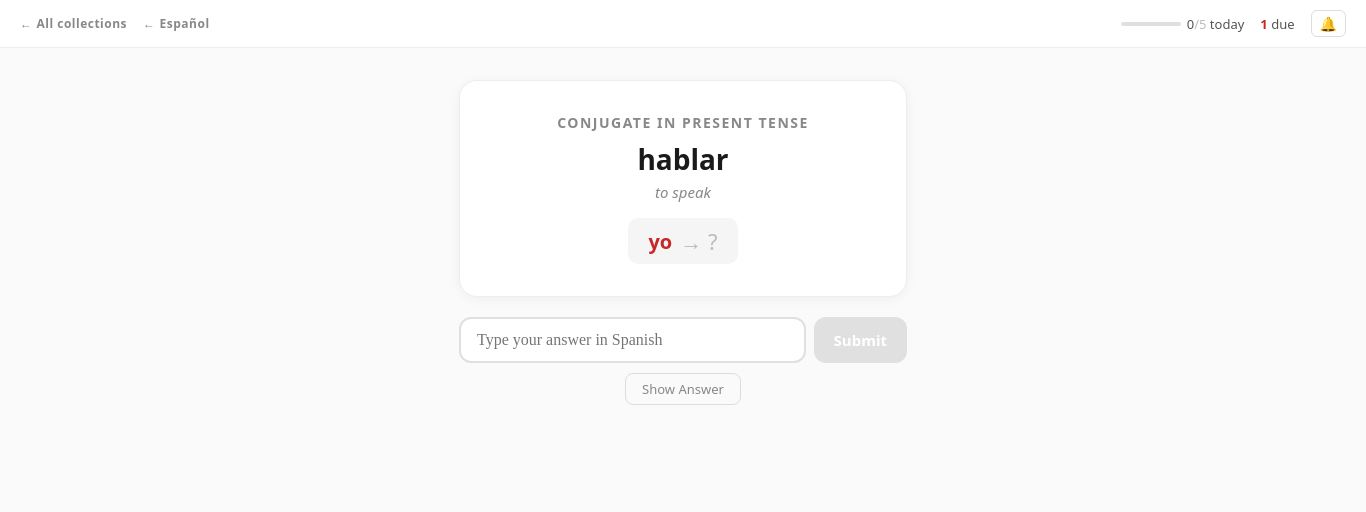
Test: Practice surface › shows incorrect feedback and only a Continue button in typed-incorrect path
The width and height of the screenshot is (1366, 512).
Expected: the text "hablar" is shown, left=637, top=140, right=729, bottom=178
Type "hablamos" into the field labelled "Type your answer in Spanish" at (632, 340), box left=459, top=317, right=806, bottom=363
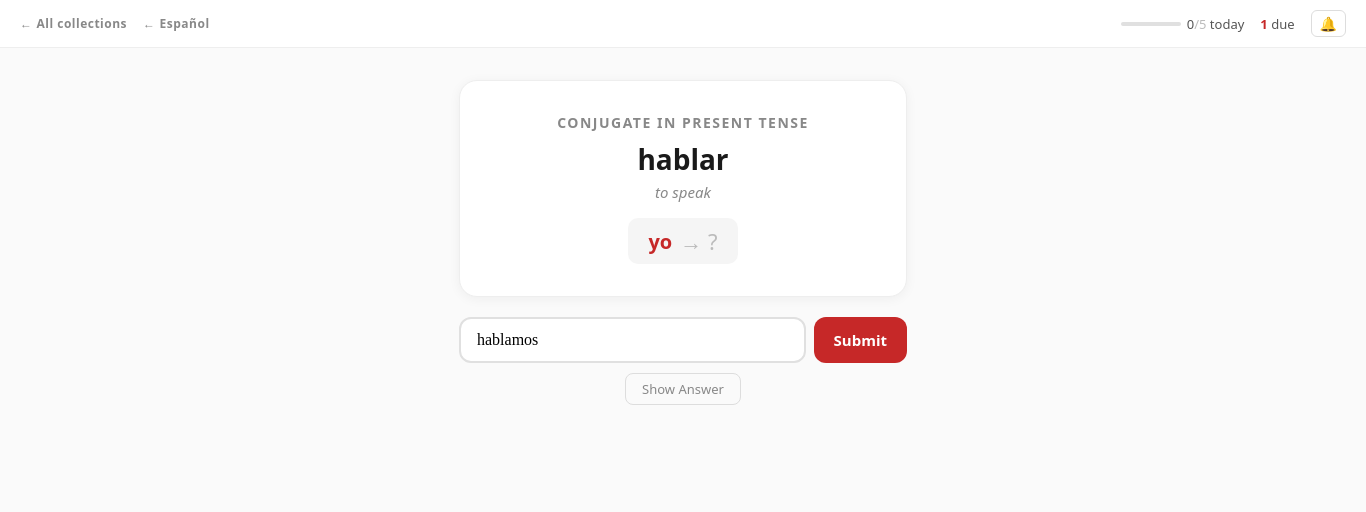
Click the button with aria-label "submit answer" at (860, 340), box left=814, top=317, right=907, bottom=363
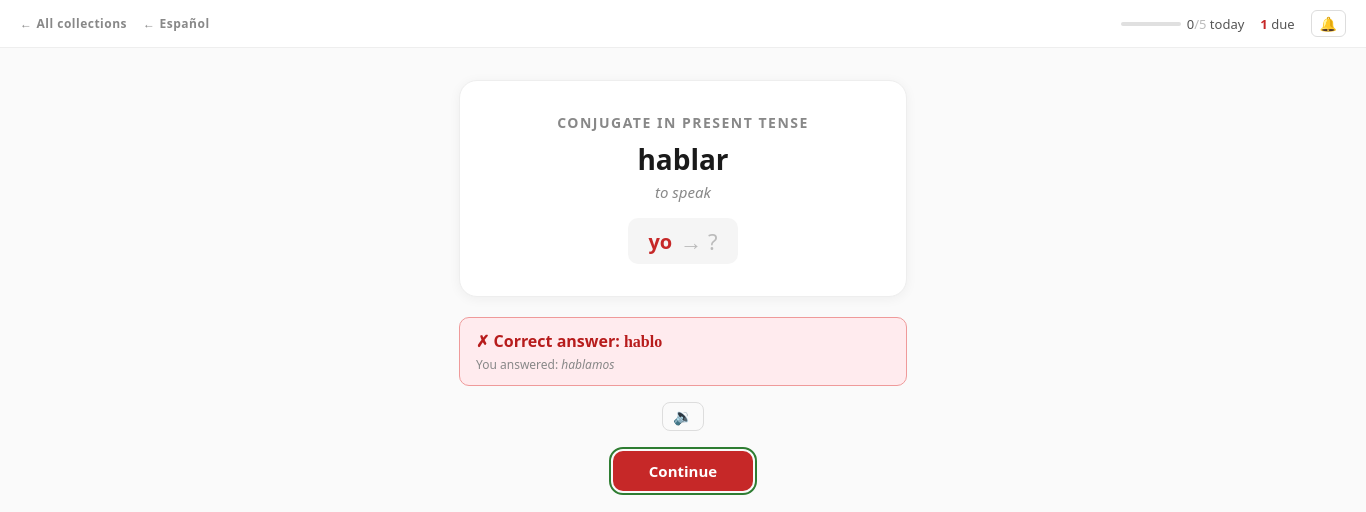
Expected: the element with test id "answer-feedback" is shown, left=459, top=317, right=907, bottom=386
Expected: the element with test id "answer-feedback" shows "Correct answer", left=489, top=330, right=620, bottom=352
Expected: the button "Continue" is shown, left=613, top=451, right=753, bottom=491
